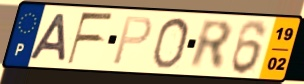6: (229, 18, 268, 77)
A: (27, 12, 68, 63)
F: (65, 12, 116, 66)
O: (150, 16, 191, 70)
P: (110, 15, 155, 67)
R: (188, 18, 235, 72)
